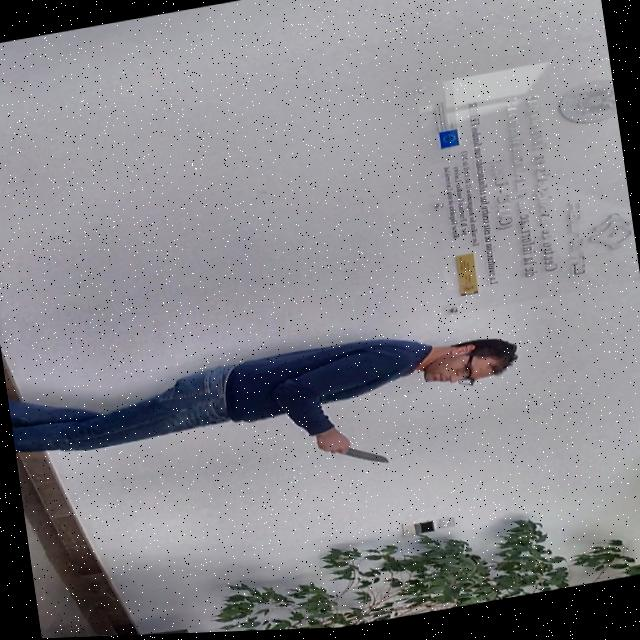knife: (334, 439, 400, 479)
